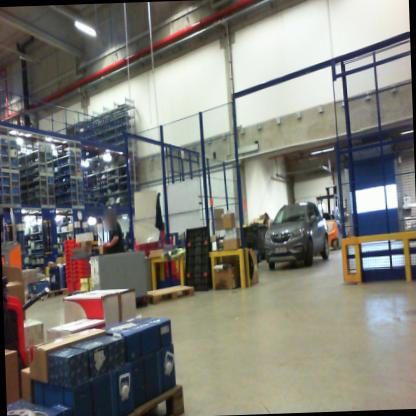forklift: (1, 191, 51, 309), (311, 179, 353, 252), (0, 197, 31, 291)
pallet: (110, 377, 193, 416), (144, 280, 194, 312), (28, 283, 75, 313)
pallet_truck: (3, 263, 68, 380)
small_load_carrier: (74, 277, 92, 294), (66, 276, 75, 294), (74, 263, 93, 271), (75, 260, 94, 267), (64, 264, 77, 272), (65, 237, 78, 244), (72, 269, 93, 273), (65, 259, 76, 266), (75, 272, 94, 276), (64, 243, 83, 247), (64, 247, 79, 252), (65, 269, 76, 275), (64, 256, 77, 261), (63, 252, 79, 256), (66, 273, 75, 278)
